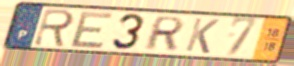3: (110, 12, 148, 52)
7: (221, 17, 260, 60)
E: (68, 11, 116, 49)
K: (183, 16, 221, 55)
R: (31, 7, 77, 48), (141, 15, 187, 51)
